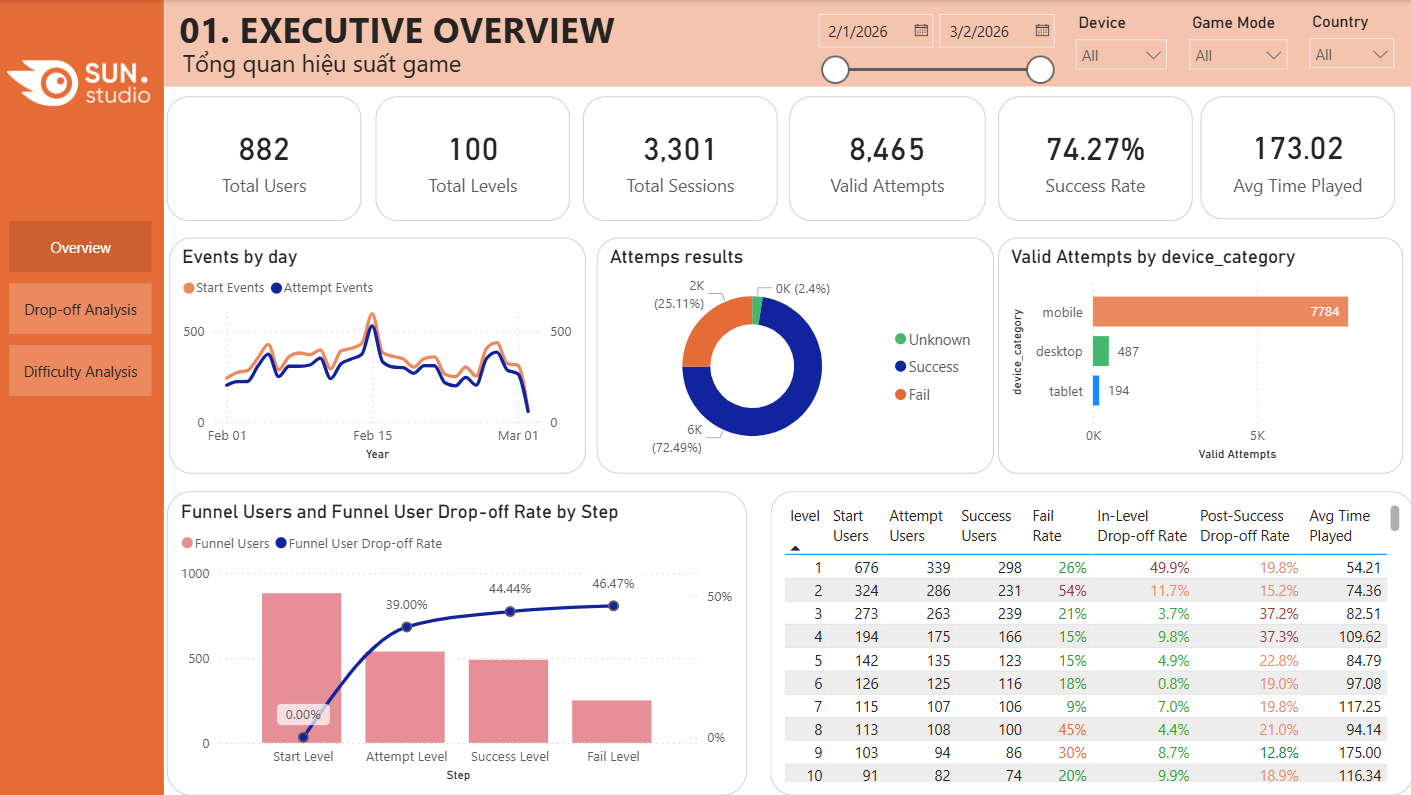

What the dashboard file says about the page in this screenshot:
{"tool":"powerbi","page":{"name":"Overview","canvas":[1280,720],"ordinal":0},"visuals":[{"type":"shape","box":[0,0,150,719.9],"z":0},{"type":"image","box":[0,0,150,150],"z":1000},{"type":"textbox","box":[150,0,1130,78.8],"z":2000},{"type":"textbox","box":[150,37.5,292.5,50],"z":3000},{"type":"card","fields":{"Values":["Base_Measure Table.Total Users"]},"box":[152.5,87.5,176.2,112.5],"z":4000},{"type":"card","fields":{"Values":["Base_Measure Table.Total Levels"]},"box":[341.2,87.5,176.2,112.5],"z":5000},{"type":"card","fields":{"Values":["Base_Measure Table.Total Sessions"]},"box":[528.8,87.5,176.2,112.5],"z":6000},{"type":"card","fields":{"Values":["Base_Measure Table.Valid Attempts"]},"box":[716.2,87.5,177.5,112.5],"z":7000},{"type":"card","fields":{"Values":["Base_Measure Table.Success Rate"]},"box":[905,87.5,176.2,112.5],"z":8000},{"type":"card","fields":{"Values":["Page1_Measure_Table.Avg Time Played"]},"box":[1088.2,87.5,176.2,111.5],"z":9000},{"type":"lineChart","title":"Events by day","fields":{"Category":["FactEvents.event_time.Variation.Date Hierarchy.Year","FactEvents.event_time.Variation.Date Hierarchy.Quarter","FactEvents.event_time.Variation.Date Hierarchy.Month","FactEvents.event_time.Variation.Date Hierarchy.Day"],"Y":["Base_Measure Table.Start Events"],"Y2":["Base_Measure Table.Attempt Events"]},"box":[154.4,215,376.6,213.5],"z":10000},{"type":"slicer","fields":{"Values":["FactEvents.event_time"]},"box":[729.2,1.9,234.9,87.5],"z":11000},{"type":"donutChart","title":"Attemps results","fields":{"Y":["Base_Measure Table.Unknown Attempts","Base_Measure Table.Success Attempts","Base_Measure Table.Fail Attempts"]},"box":[541,215,359.2,213.5],"z":12000},{"type":"clusteredBarChart","fields":{"Category":["FactEvents.device_category"],"Y":["Base_Measure Table.Valid Attempts"]},"box":[904.6,215,366.5,213.5],"z":13000},{"type":"lineClusteredColumnComboChart","fields":{"Category":["Funnel Step.Step"],"Y":["Funnel Step.Funnel Users"],"Y2":["Funnel Step.Funnel User Drop-off Rate"]},"box":[152.9,444.4,525.2,275.6],"z":14000},{"type":"tableEx","fields":{"Values":["FactEvents.level","Base_Measure Table.Start Users","Base_Measure Table.Attempt Users","Base_Measure Table.Success Users","Base_Measure Table.Fail Rate","Base_Measure Table.In-Level Drop-off Rate","Base_Measure Table.Post-Success Drop-off Rate","Page1_Measure_Table.Avg Time Played"]},"box":[698.3,444.4,581.4,275.6],"z":15000},{"type":"slicer","fields":{"Values":["FactEvents.device_category"]},"box":[964.1,6.7,103.1,69.5],"z":16000},{"type":"slicer","fields":{"Values":["FactEvents.game_mode"]},"box":[1067.1,6.7,109.1,71.9],"z":17000},{"type":"slicer","fields":{"Values":["FactEvents.country"]},"box":[1176.2,5.5,97.1,67.1],"z":18000},{"type":"pageNavigator","box":[10.1,200.5,129.8,160.1],"z":19000}]}

Visuals, with their boxes on the page's 1280x720 design canvas (x1, y1, x2, y2). These are canvas units, not pixel positions in the 1411x795 screenshot, which may show the page scaled, cropped or inside an application window:
shape: x1=0, y1=0, x2=150, y2=720
image: x1=0, y1=0, x2=150, y2=150
textbox: x1=150, y1=0, x2=1280, y2=79
textbox: x1=150, y1=38, x2=442, y2=88
card - Base_Measure Table.Total Users: x1=152, y1=88, x2=329, y2=200
card - Base_Measure Table.Total Levels: x1=341, y1=88, x2=517, y2=200
card - Base_Measure Table.Total Sessions: x1=529, y1=88, x2=705, y2=200
card - Base_Measure Table.Valid Attempts: x1=716, y1=88, x2=894, y2=200
card - Base_Measure Table.Success Rate: x1=905, y1=88, x2=1081, y2=200
card - Page1_Measure_Table.Avg Time Played: x1=1088, y1=88, x2=1264, y2=199
"Events by day" lineChart: x1=154, y1=215, x2=531, y2=428
slicer - FactEvents.event_time: x1=729, y1=2, x2=964, y2=89
"Attemps results" donutChart: x1=541, y1=215, x2=900, y2=428
clusteredBarChart - FactEvents.device_category x Base_Measure Table.Valid Attempts: x1=905, y1=215, x2=1271, y2=428
lineClusteredColumnComboChart - Funnel Step.Step x Funnel Step.Funnel Users: x1=153, y1=444, x2=678, y2=720
tableEx - FactEvents.level x Base_Measure Table.Start Users: x1=698, y1=444, x2=1280, y2=720
slicer - FactEvents.device_category: x1=964, y1=7, x2=1067, y2=76
slicer - FactEvents.game_mode: x1=1067, y1=7, x2=1176, y2=79
slicer - FactEvents.country: x1=1176, y1=6, x2=1273, y2=73
pageNavigator: x1=10, y1=200, x2=140, y2=361
